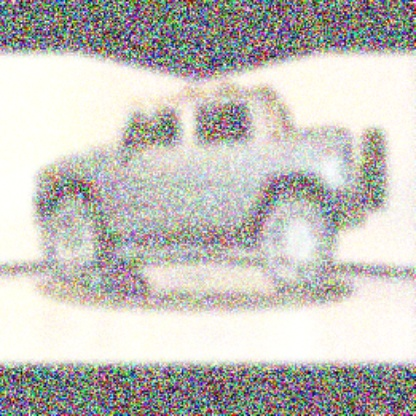Vehicle: (37, 80, 388, 292)
